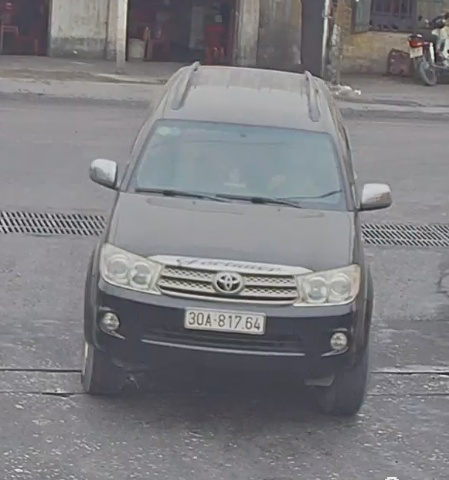vehicle plate: (180, 301, 271, 337)
